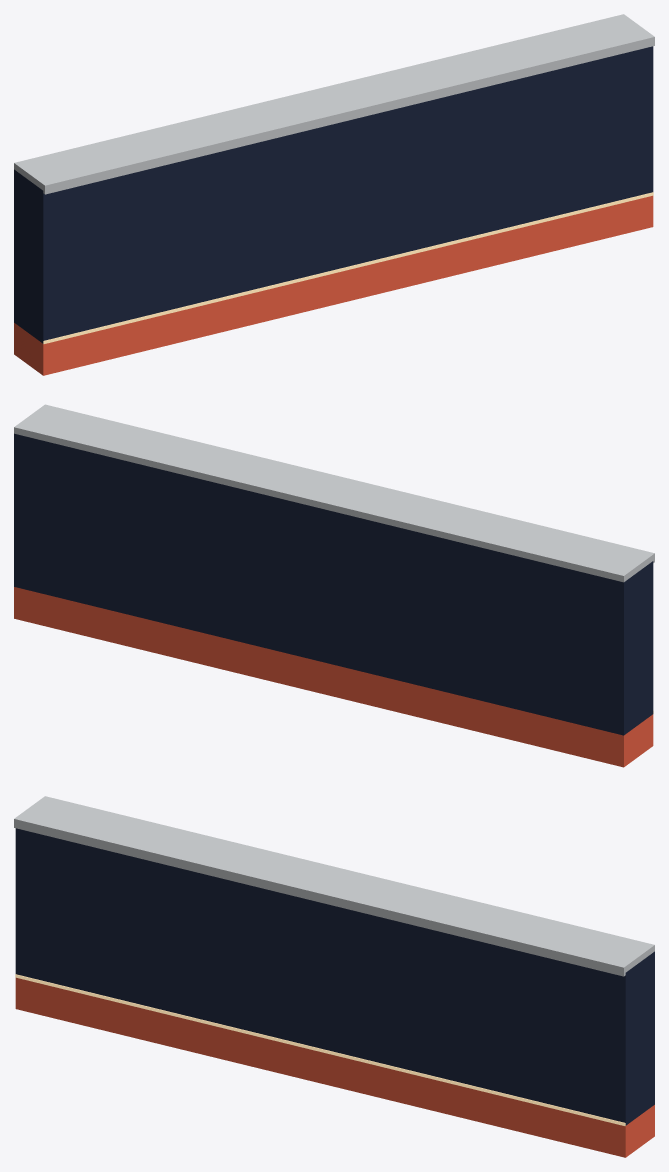
The model's file is SC_Bld_Store_Fascia_3m_Plain.gltf.
3 renders of one model, top to bottom at view 1: azimuth 30°, elevation 25°; view 2: azimuth 150°, elevation 25°; view 3: azimuth 330°, elevation 25°, orthographic.
Visible parts, largest first — view 1: SC_Bld_Store_Fascia_3m_Plain; view 2: SC_Bld_Store_Fascia_3m_Plain; view 3: SC_Bld_Store_Fascia_3m_Plain.
Boxes of the visible parts, bbox=[...] form: SC_Bld_Store_Fascia_3m_Plain: bbox=[14, 14, 654, 375]; SC_Bld_Store_Fascia_3m_Plain: bbox=[14, 404, 654, 767]; SC_Bld_Store_Fascia_3m_Plain: bbox=[14, 796, 654, 1157].
Bounding box in the file's own units: 3 × 0.912 × 0.265.
2 materials, 2 textured.
